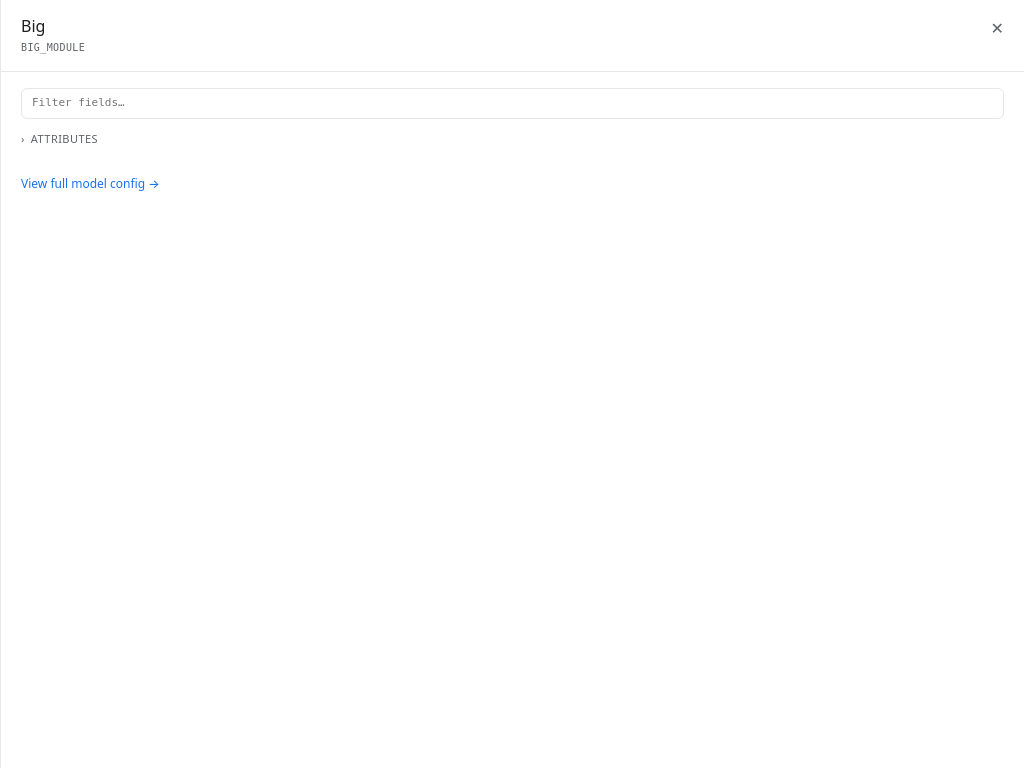
Test: GenericDetailPanel filtering › shows a filter box only for large nodes and narrows the config list
Step 1. Type "special" into the search field named "Filter detail fields" → {"x": 512, "y": 103}, box x1=21 y1=88 x2=1004 y2=118
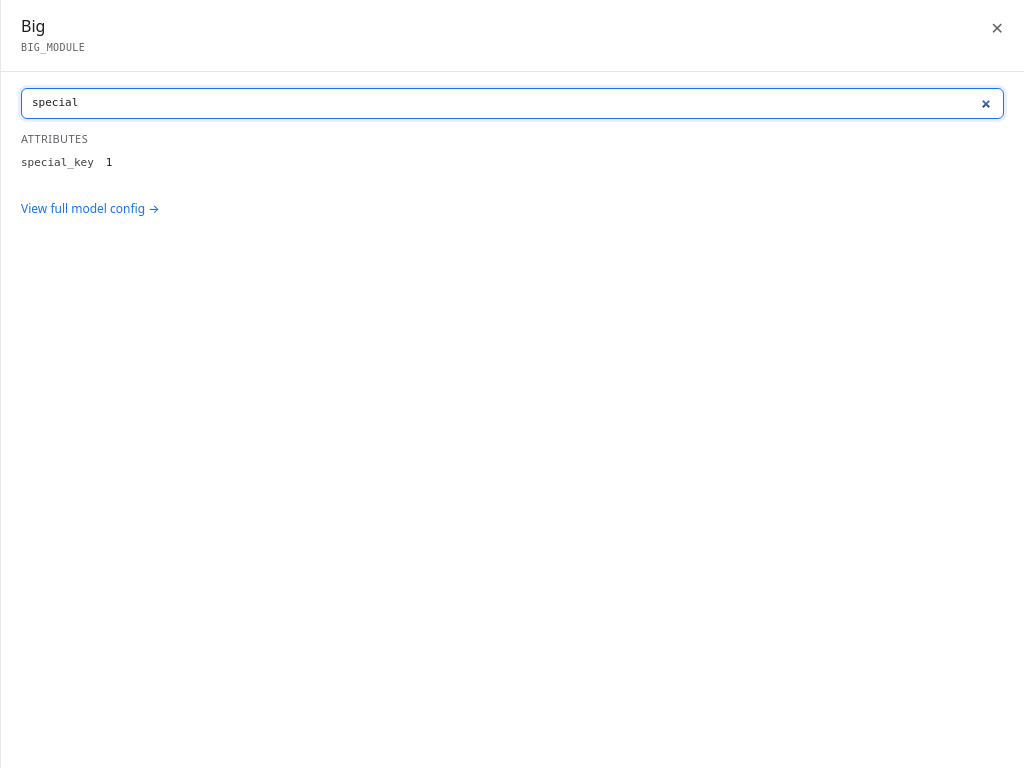
Check: the text "special_key" is shown, box x1=21 y1=155 x2=94 y2=172
